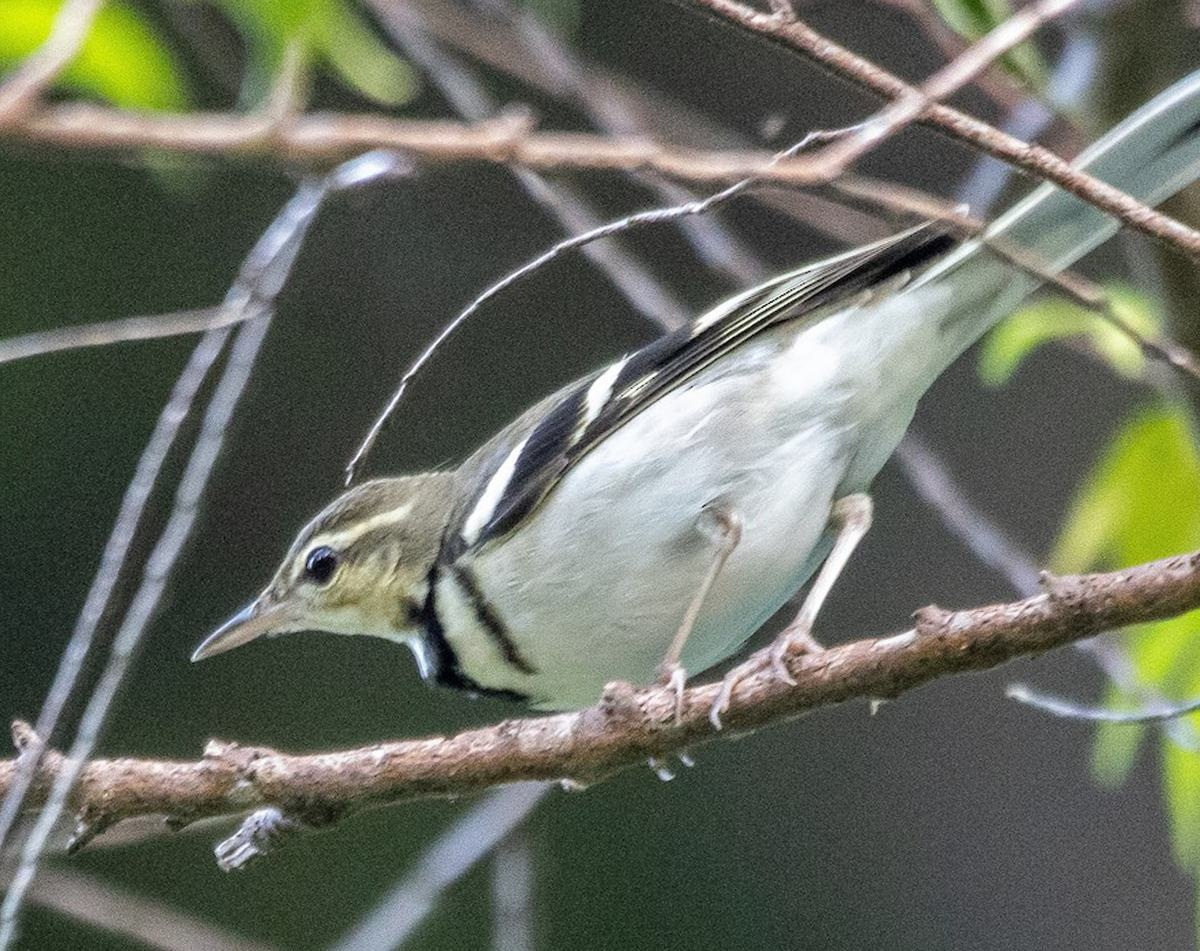wagtail: (201, 244, 963, 758)
